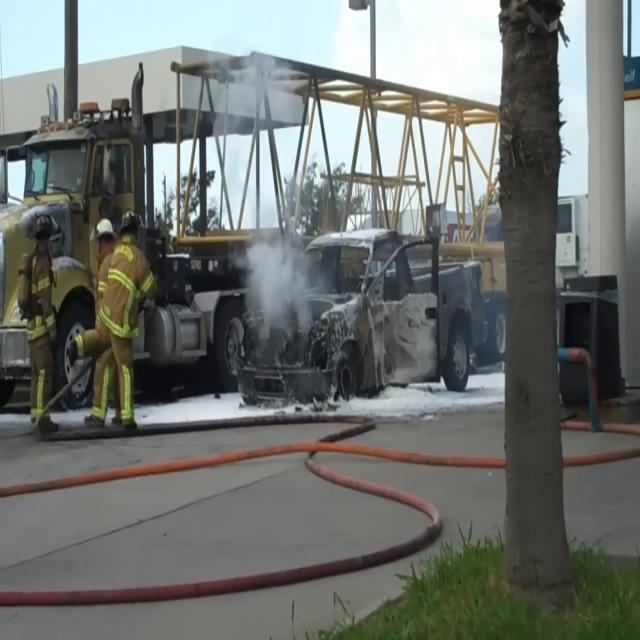Smoke: (238, 213, 328, 375)
